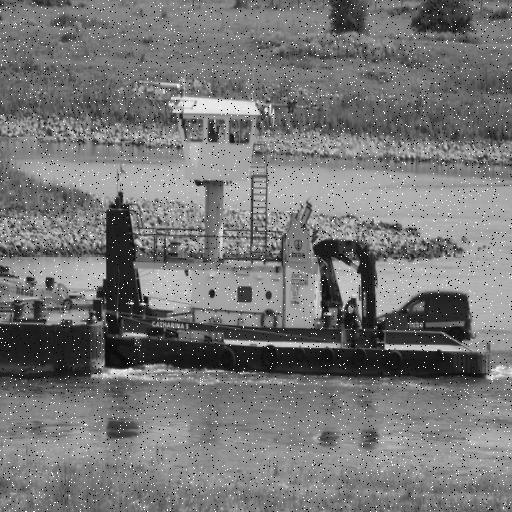tugboat: (96, 88, 506, 390)
